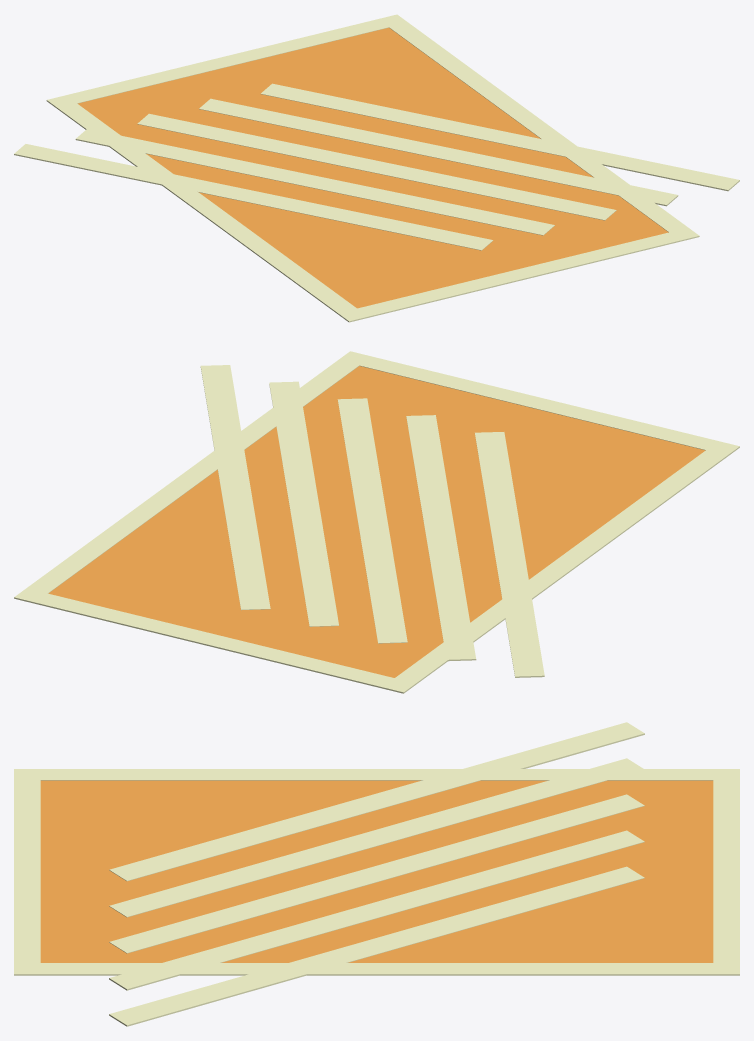
Rendered from marking_conflict_zone_panel_red.glb.
The picture shows the model from 3 angles, top to bottom: view 1: azimuth 30°, elevation 25°; view 2: azimuth 150°, elevation 25°; view 3: azimuth 270°, elevation 25°; orthographic projection. The views are drawn at different scales.
Visible parts, largest first — view 1: conflict_red_fill, conflict_red_hatch_2, conflict_red_hatch_4, conflict_red_hatch_3, conflict_red_hatch_0, conflict_red_hatch_1, conflict_red_left, conflict_red_right, conflict_red_bottom, conflict_red_top; view 2: conflict_red_fill, conflict_red_hatch_2, conflict_red_hatch_0, conflict_red_hatch_4, conflict_red_hatch_3, conflict_red_hatch_1, conflict_red_left, conflict_red_right, conflict_red_top, conflict_red_bottom; view 3: conflict_red_fill, conflict_red_hatch_2, conflict_red_hatch_3, conflict_red_hatch_4, conflict_red_right, conflict_red_hatch_0, conflict_red_hatch_1, conflict_red_left, conflict_red_top, conflict_red_bottom.
Part boxes in pixels (x1=…): conflict_red_fill: x1=78, y1=27, x2=668, y2=308; conflict_red_hatch_2: x1=137, y1=113, x2=616, y2=220; conflict_red_hatch_4: x1=260, y1=83, x2=739, y2=191; conflict_red_hatch_3: x1=199, y1=98, x2=678, y2=206; conflict_red_hatch_0: x1=14, y1=144, x2=493, y2=250; conflict_red_hatch_1: x1=75, y1=129, x2=554, y2=235; conflict_red_left: x1=57, y1=103, x2=356, y2=313; conflict_red_right: x1=389, y1=22, x2=687, y2=232; conflict_red_bottom: x1=338, y1=227, x2=699, y2=322; conflict_red_top: x1=46, y1=14, x2=407, y2=108; conflict_red_fill: x1=48, y1=366, x2=705, y2=677; conflict_red_hatch_2: x1=337, y1=398, x2=407, y2=643; conflict_red_hatch_0: x1=475, y1=432, x2=544, y2=677; conflict_red_hatch_4: x1=200, y1=365, x2=270, y2=610; conflict_red_hatch_3: x1=269, y1=381, x2=338, y2=626; conflict_red_hatch_1: x1=406, y1=415, x2=476, y2=661; conflict_red_left: x1=395, y1=450, x2=727, y2=684; conflict_red_right: x1=27, y1=360, x2=359, y2=593; conflict_red_top: x1=14, y1=588, x2=415, y2=693; conflict_red_bottom: x1=338, y1=351, x2=739, y2=456; conflict_red_fill: x1=40, y1=780, x2=713, y2=962; conflict_red_hatch_2: x1=109, y1=794, x2=644, y2=953; conflict_red_hatch_3: x1=109, y1=830, x2=644, y2=990; conflict_red_hatch_4: x1=109, y1=866, x2=644, y2=1026; conflict_red_right: x1=40, y1=963, x2=713, y2=975; conflict_red_hatch_0: x1=109, y1=722, x2=644, y2=881; conflict_red_hatch_1: x1=109, y1=758, x2=643, y2=917; conflict_red_left: x1=40, y1=769, x2=713, y2=780; conflict_red_top: x1=713, y1=769, x2=739, y2=975; conflict_red_bottom: x1=14, y1=769, x2=40, y2=975.
Size of the model in its own units: 2.69 by 0.006 by 2.72.
